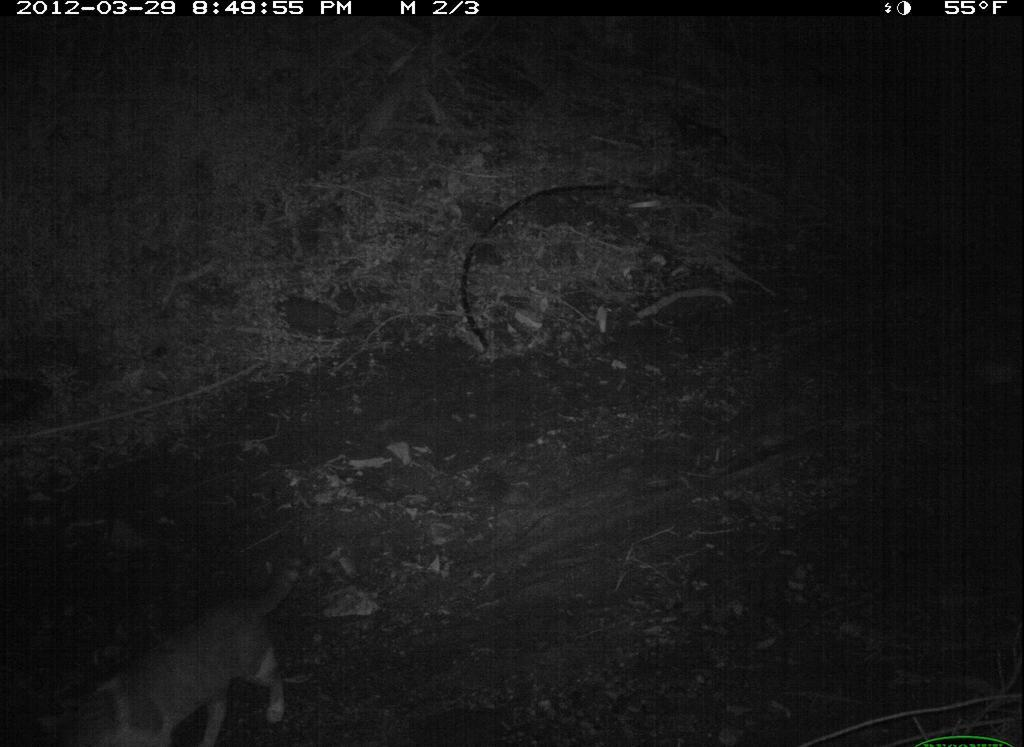cat: (44, 543, 327, 744)
